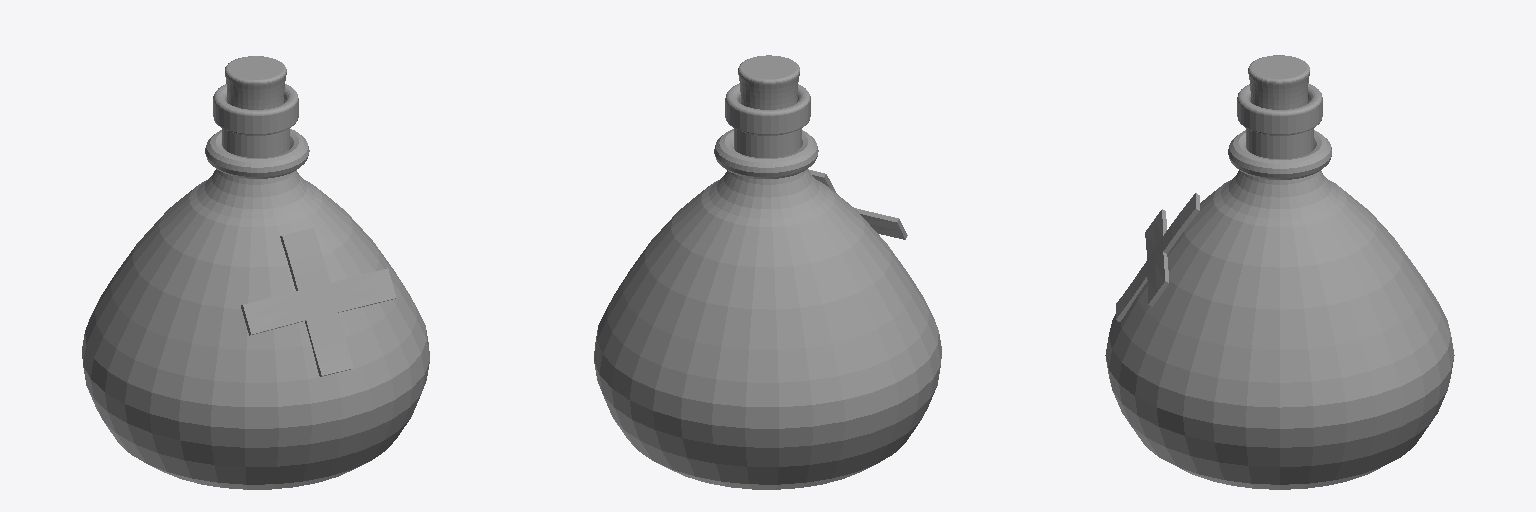
Rendered from Health_Potion.obj.
The picture shows the model from 3 angles: view 1: azimuth 30°, elevation 25°; view 2: azimuth 150°, elevation 25°; view 3: azimuth 270°, elevation 25°; orthographic projection.
Parts seen in each view (by area): view 1: bottle_Sphere, hp_symbol_Cube.006, cork_Cylinder, Torus; view 2: bottle_Sphere, cork_Cylinder, Torus, hp_symbol_Cube.006; view 3: bottle_Sphere, hp_symbol_Cube.006, cork_Cylinder, Torus.
Boxes of the visible parts, <box> form: bottle_Sphere: <box>82,84,429,489</box>; hp_symbol_Cube.006: <box>241,228,396,376</box>; cork_Cylinder: <box>225,56,286,109</box>; Torus: <box>205,129,309,178</box>; bottle_Sphere: <box>594,83,941,489</box>; cork_Cylinder: <box>738,55,799,109</box>; Torus: <box>714,129,818,178</box>; hp_symbol_Cube.006: <box>808,169,907,239</box>; bottle_Sphere: <box>1105,83,1454,489</box>; hp_symbol_Cube.006: <box>1116,193,1199,321</box>; cork_Cylinder: <box>1248,55,1309,109</box>; Torus: <box>1228,130,1331,179</box>.
Size of the model in its own units: 2 by 2.38 by 2.